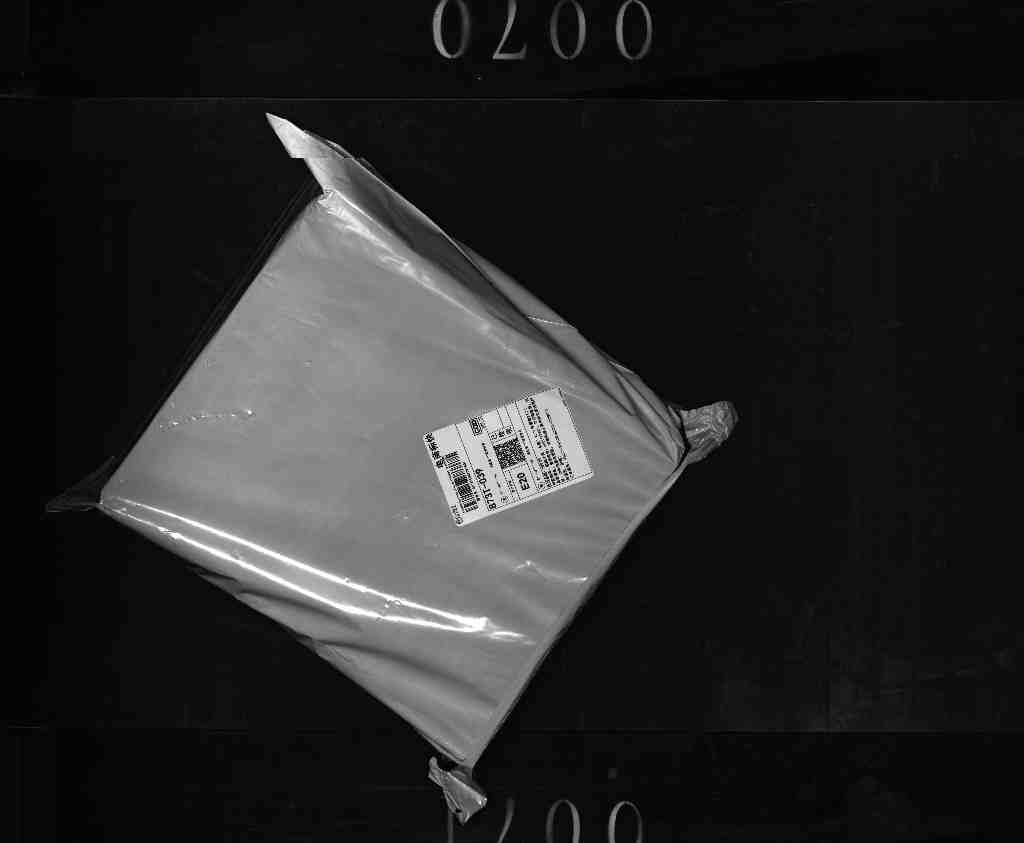box: (91, 137, 738, 763)
